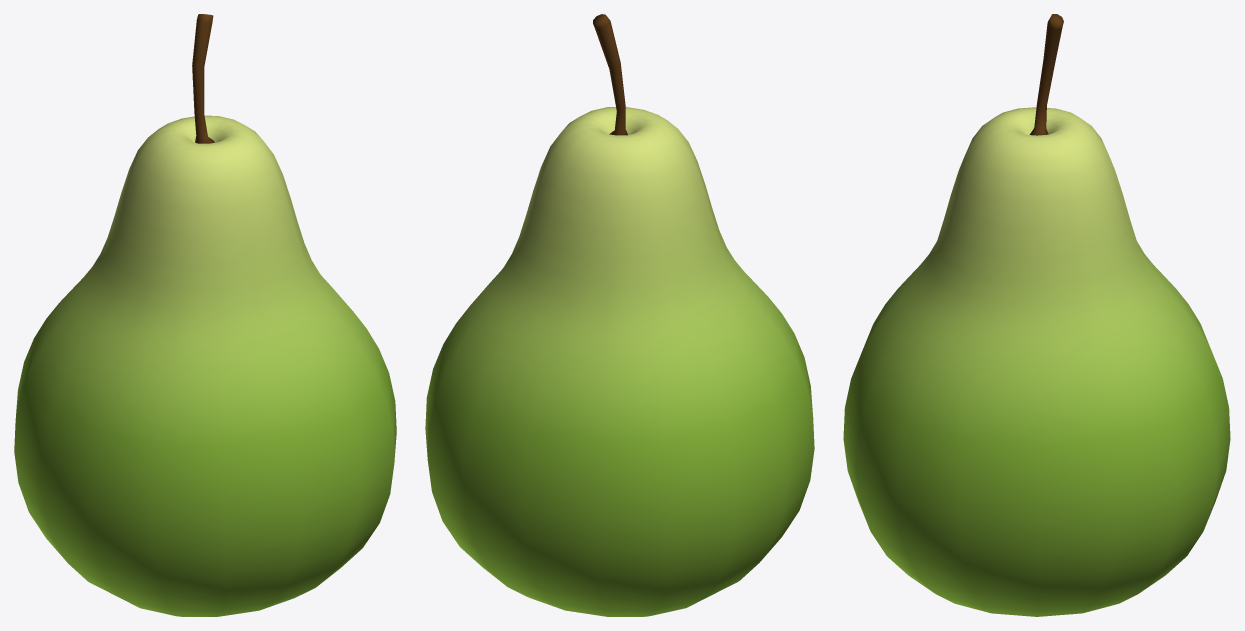
Rendered from Pear.fbx.
3 views of the same model, side by side, from view 1: azimuth 30°, elevation 25°; view 2: azimuth 150°, elevation 25°; view 3: azimuth 270°, elevation 25° (orthographic).
Parts seen in each view (by area): view 1: pear; view 2: pear; view 3: pear.
Boxes of the visible parts, box(x1,y1,x2,y2) form: pear: box(14, 14, 396, 616); pear: box(425, 14, 814, 616); pear: box(843, 14, 1230, 616).
Size of the model in its own units: 482 by 802 by 482.
